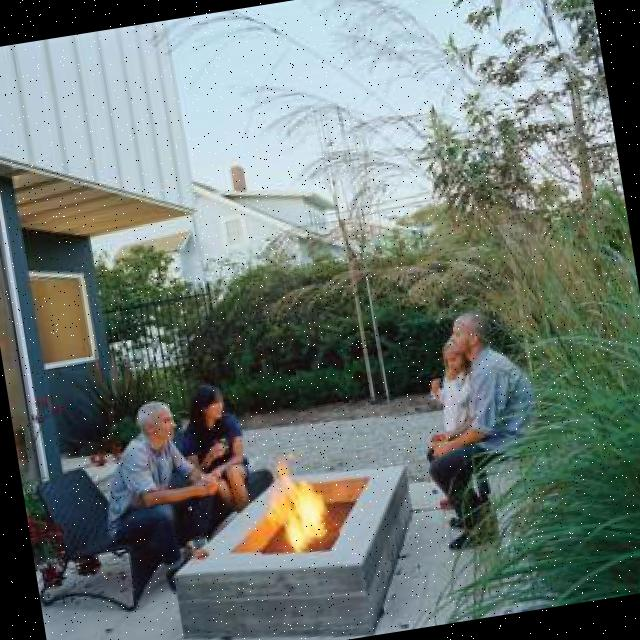fire: (248, 452, 342, 562)
